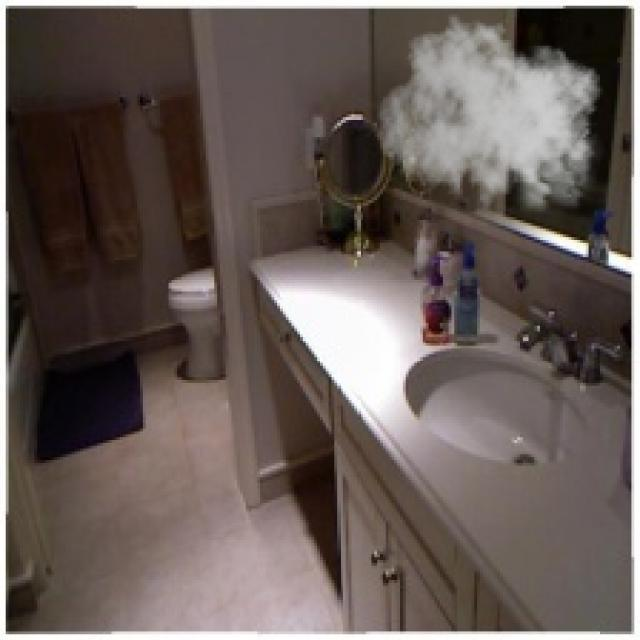Smoke: (377, 14, 609, 223)
